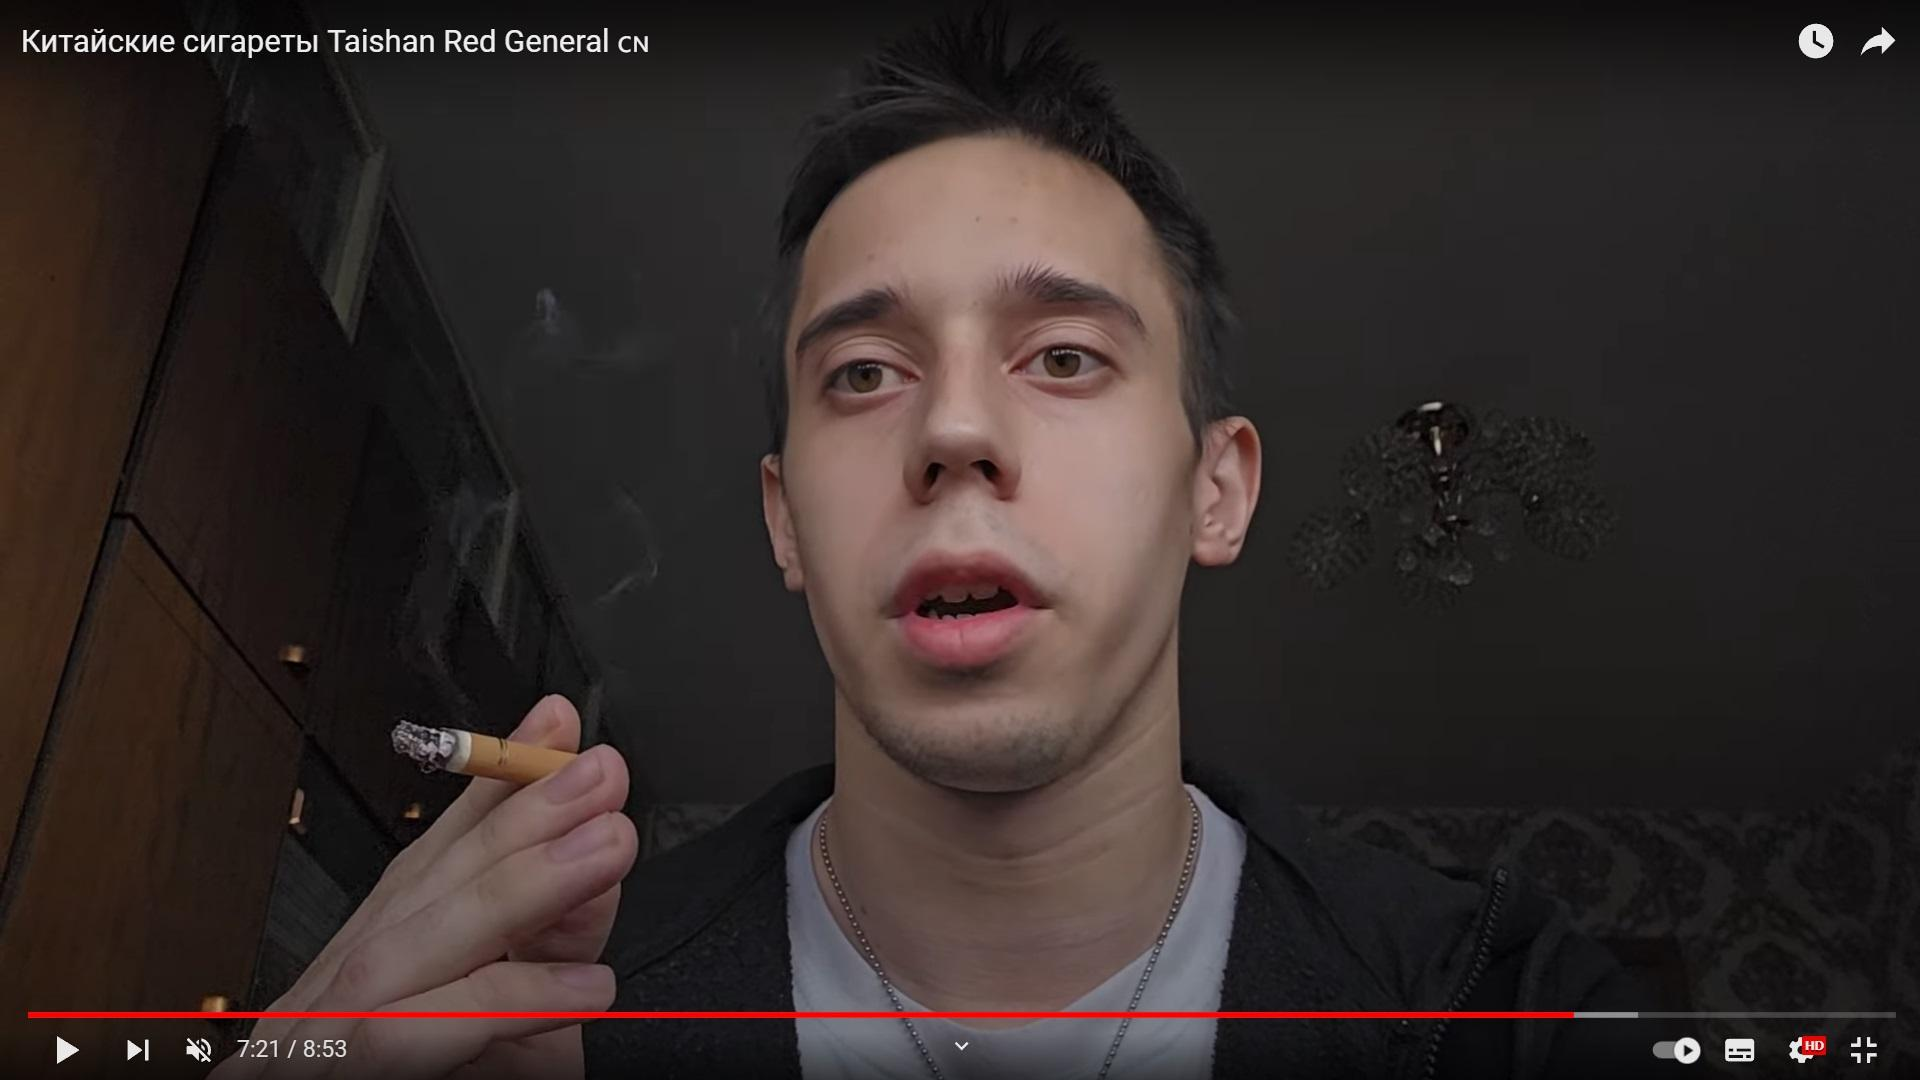cigarette: (390, 720, 580, 783)
